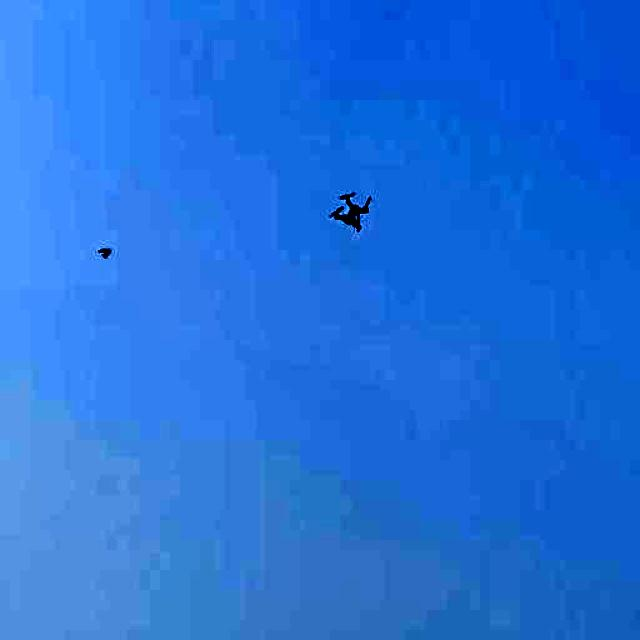bird: (328, 189, 374, 235)
